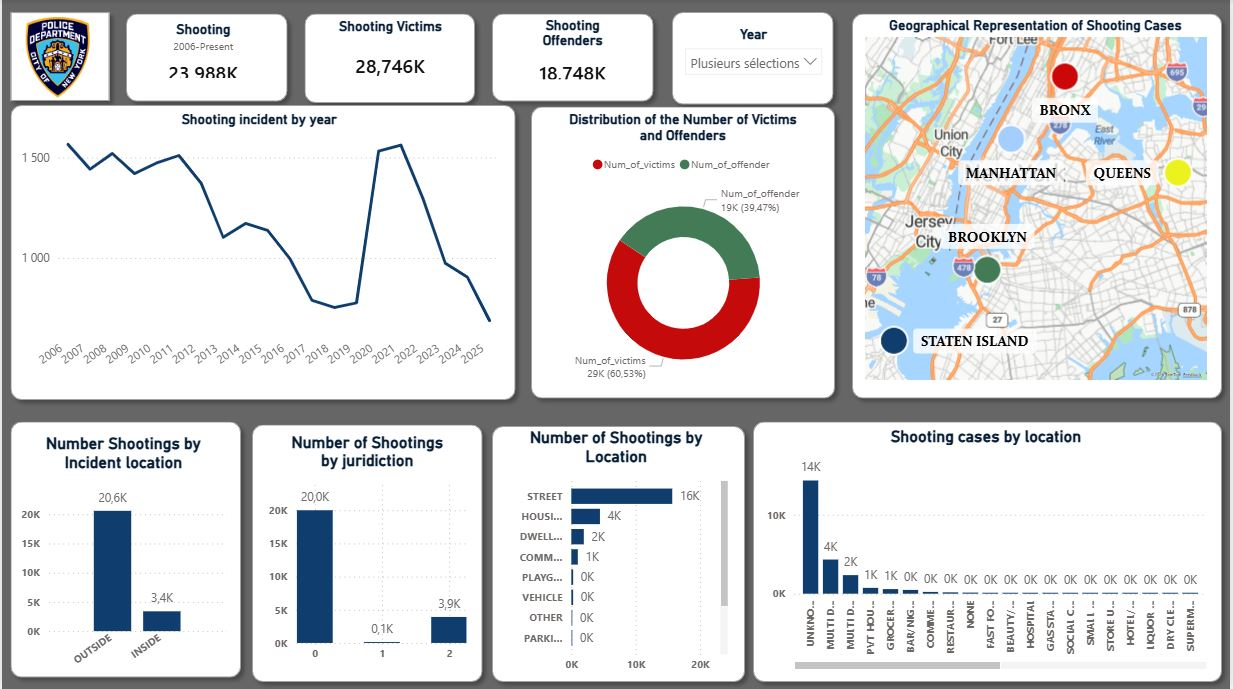

What the dashboard file says about the page in this screenshot:
{"tool":"powerbi","page":{"name":"Shooting NYD","canvas":[1280,720],"ordinal":0},"visuals":[{"type":"shape","box":[120.4,6.3,186,109.4],"z":0},{"type":"shape","box":[306.3,6.3,195.4,111],"z":1000},{"type":"shape","box":[501.7,6.3,186,109.4],"z":2000},{"type":"shape","box":[0,5.2,121,110.5],"z":3000},{"type":"shape","box":[689.3,4.7,186,114.1],"z":4000},{"type":"shape","box":[876.8,6.3,403.3,418.9],"z":5000},{"type":"cardVisual","title":"Shooting Victims","fields":{"Data":["CountNonNull(Shooting_Victims.INCIDENT_KEY)"]},"box":[322,20.3,165.7,82.8],"z":6000},{"type":"cardVisual","title":"Shooting Offenders","fields":{"Data":["CountNonNull(Shooting_Offenders.INCIDENT_KEY)"]},"box":[522,18.8,145.4,82.8],"z":7000},{"type":"slicer","title":"Year","fields":{"Values":["Dim_Date.Year"]},"box":[701.8,28.1,162.6,75],"z":8000},{"type":"shape","box":[0,101.6,543.9,325.1],"z":9000},{"type":"shape","box":[542.4,103.2,334.5,322],"z":10000},{"type":"donutChart","title":"Distribution of the Number of Victims and Offenders","fields":{"Y":["Mesure.Num_of_victims","Mesure.Num_of_offendeer"]},"box":[556.4,117.2,306.3,293.8],"z":11000},{"type":"shape","box":[0,431.4,257.9,284.5],"z":12000},{"type":"shape","box":[501.7,436.1,281.3,284.5],"z":13000},{"type":"columnChart","title":"Number Shootings by Incident location","fields":{"Y":["CountNonNull(Shootings.INCIDENT_KEY)"],"Category":["Shootings.LOC_OF_OCCUR_DESC"]},"box":[14.1,453.3,225.1,250.1],"z":14000},{"type":"azureMap","title":"Geographical Representation of Shooting Cases","fields":{"Category":["Shootings.BORO"],"Y":["CountNonNull(Shootings.INCIDENT_KEY)"]},"box":[894,18.8,365.7,382.9],"z":15000},{"type":"image","box":[13.7,18.3,87.6,83.7],"z":16000},{"type":"shape","box":[251.6,434.5,257.9,286],"z":17000},{"type":"clusteredBarChart","title":"Number of Shootings by Location","fields":{"Category":["Shootings.LOC_CLASSFCTN_DESC"],"Y":["CountNonNull(Shootings.INCIDENT_KEY)"]},"box":[518.9,447,242.3,262.6],"z":18000},{"type":"clusteredColumnChart","title":"Number of Shootings by juridiction","fields":{"Y":["CountNonNull(Shootings.INCIDENT_KEY)"],"Category":["Shootings.JURISDICTION_CODE"]},"box":[272,451.7,217.3,247],"z":19000},{"type":"shape","box":[773.7,431.4,506.4,289.2],"z":20000},{"type":"columnChart","title":"Shooting cases by location","fields":{"Category":["Shootings.LOCATION_DESC"],"Y":["CountNonNull(Shootings.INCIDENT_KEY)"]},"box":[790.9,445.5,468.9,257.9],"z":21000},{"type":"cardVisual","title":"Shooting","fields":{"Data":["CountNonNull(Shootings.INCIDENT_KEY)"]},"box":[138.4,23.9,141.6,76.3],"z":22000},{"type":"lineChart","title":"Shooting incident by year","fields":{"Y":["CountNonNull(Shootings.INCIDENT_KEY)"],"Category":["Dim_Date.Date.Variation.Hiérarchie de dates.Année"]},"box":[14.1,117.2,508,284.5],"z":23000}]}

Visuals, with their boxes in screenshot pixels (x1, y1, x2, y2), scaled from the page's 1280x720 canvas onto the 1233x689 screenshot:
shape: 116 6 295 111
shape: 295 6 483 112
shape: 483 6 662 111
shape: 0 5 117 111
shape: 664 4 843 114
shape: 845 6 1232 407
"Shooting Victims" cardVisual: 310 19 470 99
"Shooting Offenders" cardVisual: 503 18 643 97
"Year" slicer: 676 27 833 99
shape: 0 97 524 408
shape: 522 99 845 407
"Distribution of the Number of Victims and Offenders" donutChart: 536 112 831 393
shape: 0 413 248 685
shape: 483 417 754 688
"Number Shootings by Incident location" columnChart: 14 434 230 673
"Geographical Representation of Shooting Cases" azureMap: 861 18 1213 384
image: 13 18 98 98
shape: 242 416 491 688
"Number of Shootings by Location" clusteredBarChart: 500 428 733 679
"Number of Shootings by juridiction" clusteredColumnChart: 262 432 471 669
shape: 745 413 1232 688
"Shooting cases by location" columnChart: 762 426 1214 673
"Shooting" cardVisual: 133 23 270 96
"Shooting incident by year" lineChart: 14 112 503 384
